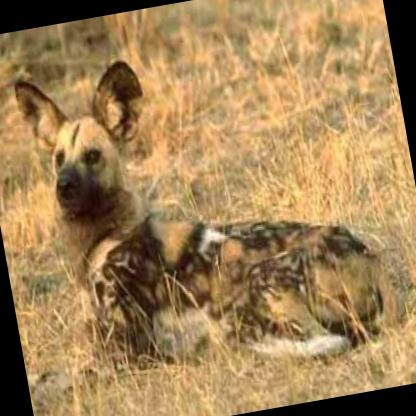African_hunting_dog: (0, 17, 405, 409)
